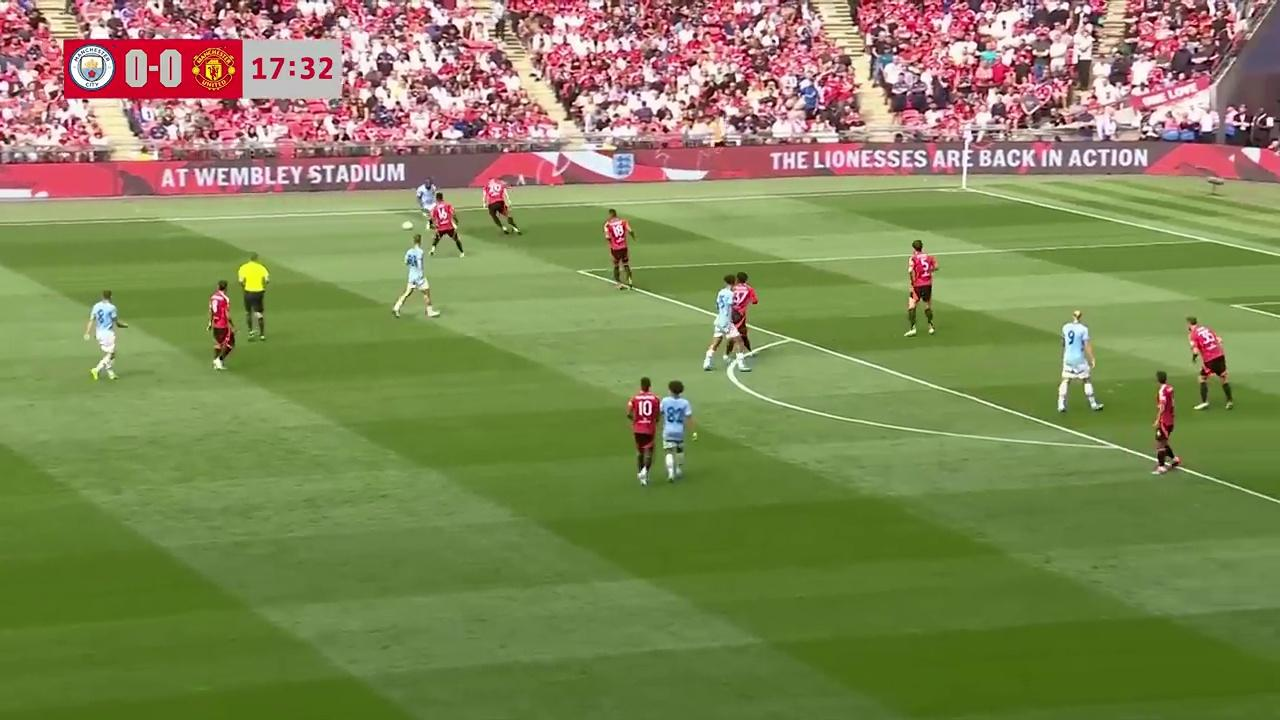ball: (399, 215, 414, 231)
player: (1055, 309, 1096, 424), (1186, 316, 1235, 412), (713, 272, 758, 363), (392, 233, 438, 320), (703, 275, 742, 373), (626, 379, 659, 486), (904, 243, 939, 337), (660, 384, 693, 482), (88, 292, 123, 380), (1151, 371, 1178, 474), (206, 280, 236, 370), (603, 209, 635, 290), (428, 195, 464, 257), (482, 184, 521, 235), (416, 181, 438, 226)
referee: (236, 253, 269, 341)
